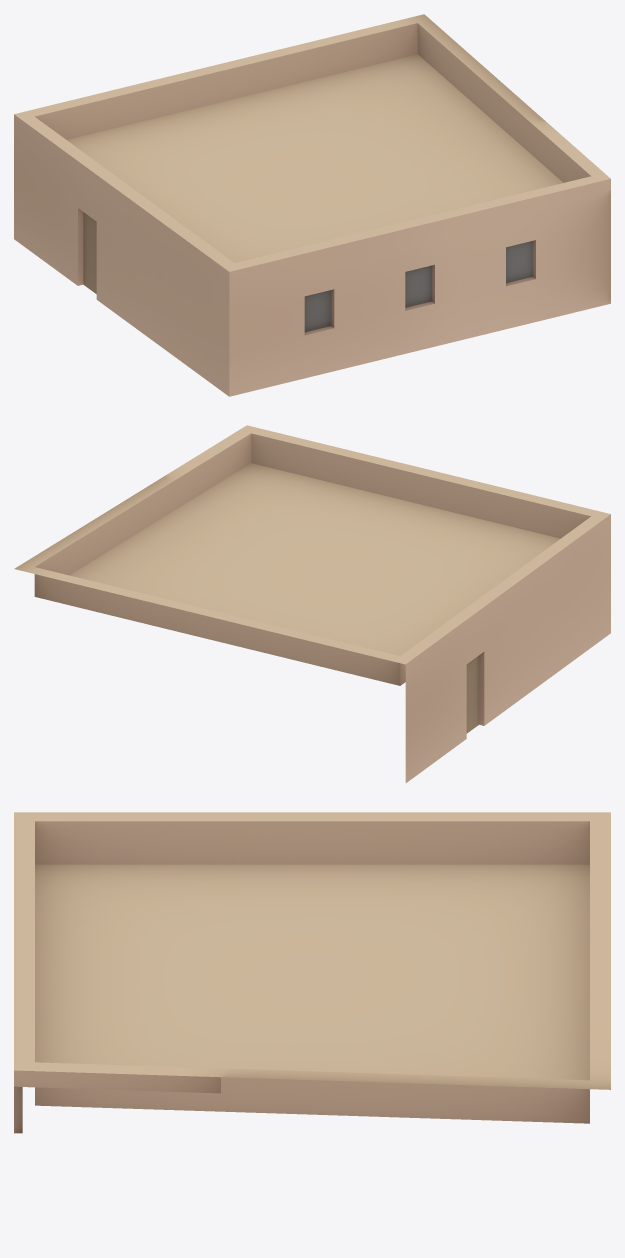
3 views of the same model, one above another, from view 1: azimuth 30°, elevation 25°; view 2: azimuth 150°, elevation 25°; view 3: azimuth 270°, elevation 25° (orthographic). The views are drawn at different scales.
Parts seen in each view (by area): view 1: atturaifworldheritagesite70030076527609092; view 2: atturaifworldheritagesite70030076527609092; view 3: atturaifworldheritagesite70030076527609092.
Part boxes in pixels (box(x1,y1,x2,y2)): atturaifworldheritagesite70030076527609092: box(14, 14, 610, 396); atturaifworldheritagesite70030076527609092: box(14, 425, 610, 782); atturaifworldheritagesite70030076527609092: box(14, 812, 610, 1133).
Bounding box in the file's own units: 11 × 3.2 × 10.
1 material, 1 textured.
